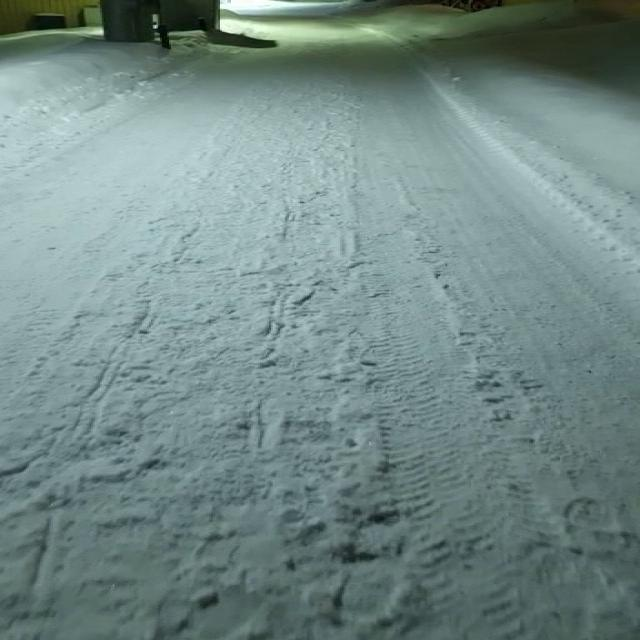path: (0, 2, 640, 640)
